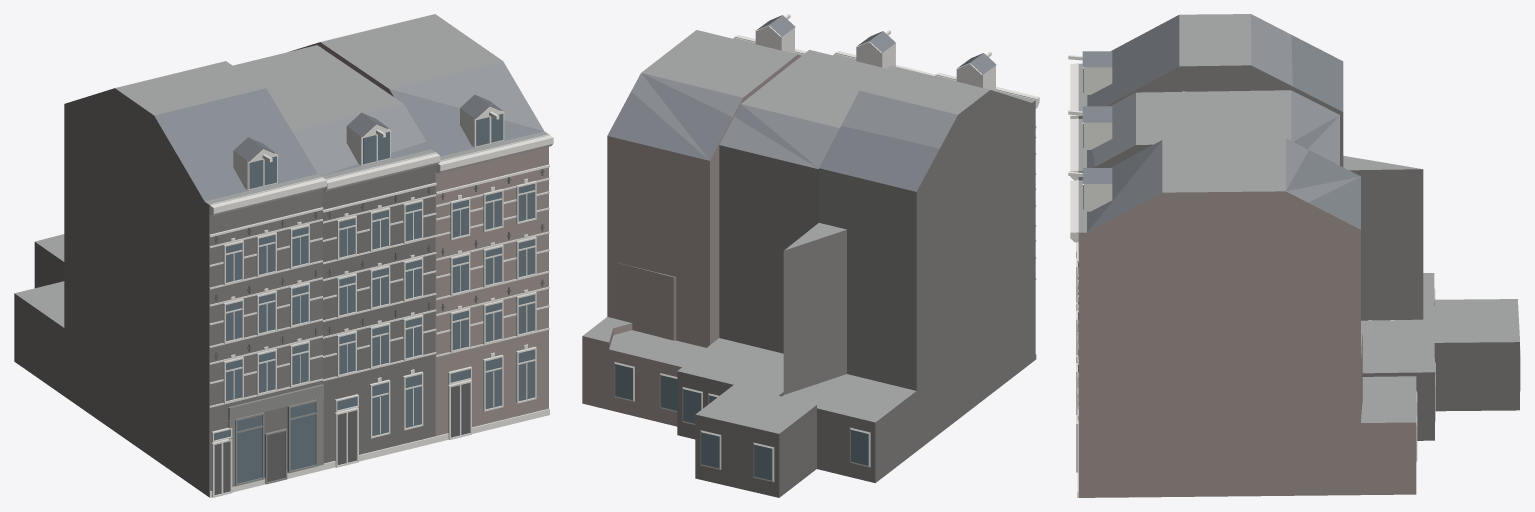
File: chunk-face-dou-222-254-r1.glb
3 renders of one model, left to right at view 1: azimuth 30°, elevation 25°; view 2: azimuth 150°, elevation 25°; view 3: azimuth 270°, elevation 25°, orthographic. The views are drawn at different scales.
Visible parts, largest first — view 1: face-dou-222-254-r1; view 2: face-dou-222-254-r1; view 3: face-dou-222-254-r1.
Part boxes in pixels (bbox=[...]): face-dou-222-254-r1: bbox=[14, 14, 553, 497]; face-dou-222-254-r1: bbox=[582, 14, 1039, 497]; face-dou-222-254-r1: bbox=[1068, 14, 1520, 497].
Size of the model in its own units: 18.14 by 17.16 by 21.64.
